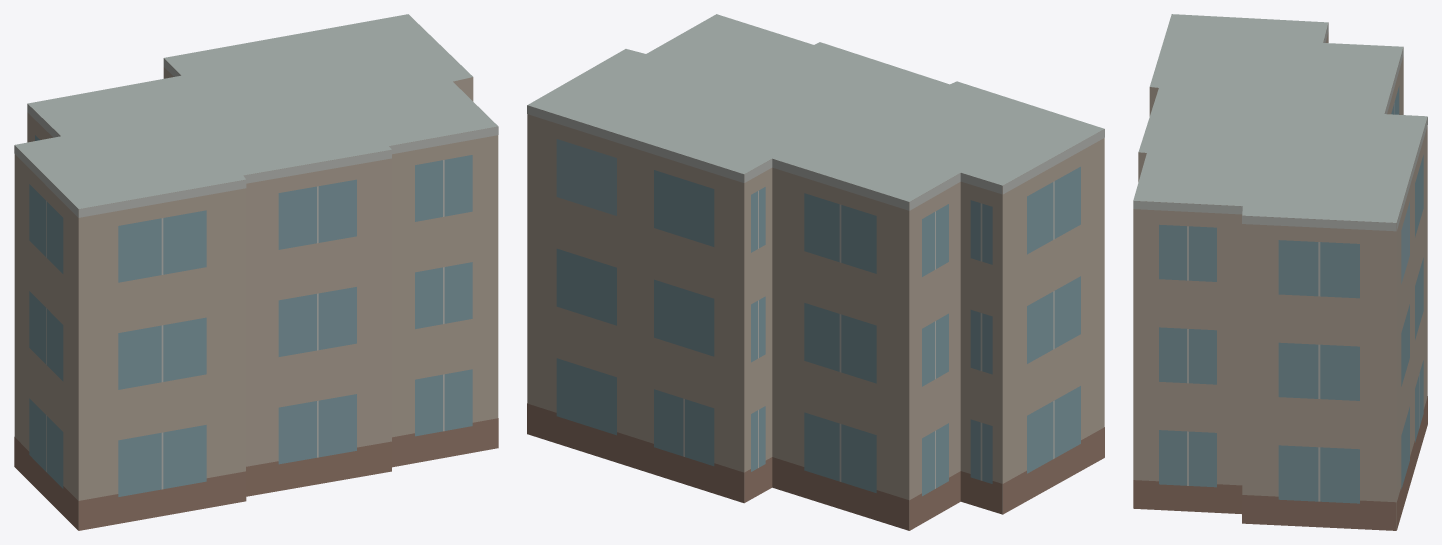
The model's file is survey-upis-32729238.glb.
The picture shows the model from 3 angles, left to right: view 1: azimuth 30°, elevation 25°; view 2: azimuth 150°, elevation 25°; view 3: azimuth 270°, elevation 25°; orthographic projection. The views are drawn at different scales.
Parts seen in each view (by area): view 1: survey-upis-32729238.tmp; view 2: survey-upis-32729238.tmp; view 3: survey-upis-32729238.tmp.
Boxes of the visible parts, x1,y1,x2,y2 form: survey-upis-32729238.tmp: (14, 14, 498, 530); survey-upis-32729238.tmp: (527, 14, 1104, 530); survey-upis-32729238.tmp: (1133, 14, 1427, 530).
Bounding box in the file's own units: 13.11 × 9 × 7.82.
